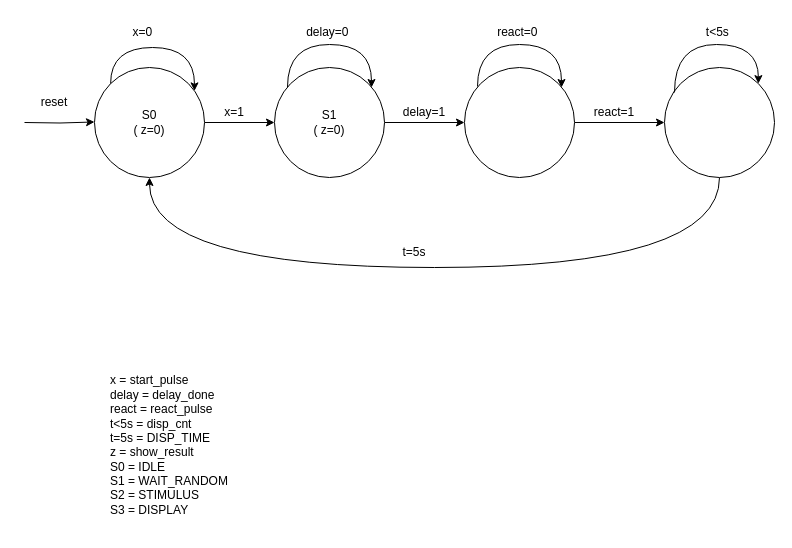
Image size: 792x548. Some labels were removed from this diagram. Each missing label, with the centre of its shape:
"S2 (z=0)" belongs at (519,122).
"S3 (z=1)" belongs at (719,122).
